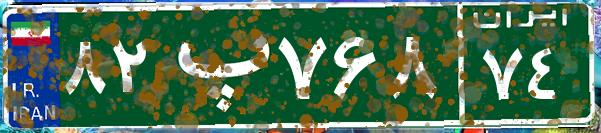2: (110, 28, 158, 105)
4: (525, 38, 570, 115)
6: (330, 28, 385, 110)
7: (273, 28, 330, 110), (475, 38, 525, 113)
8: (385, 28, 445, 110), (57, 26, 110, 107)
پ: (158, 15, 273, 115)
